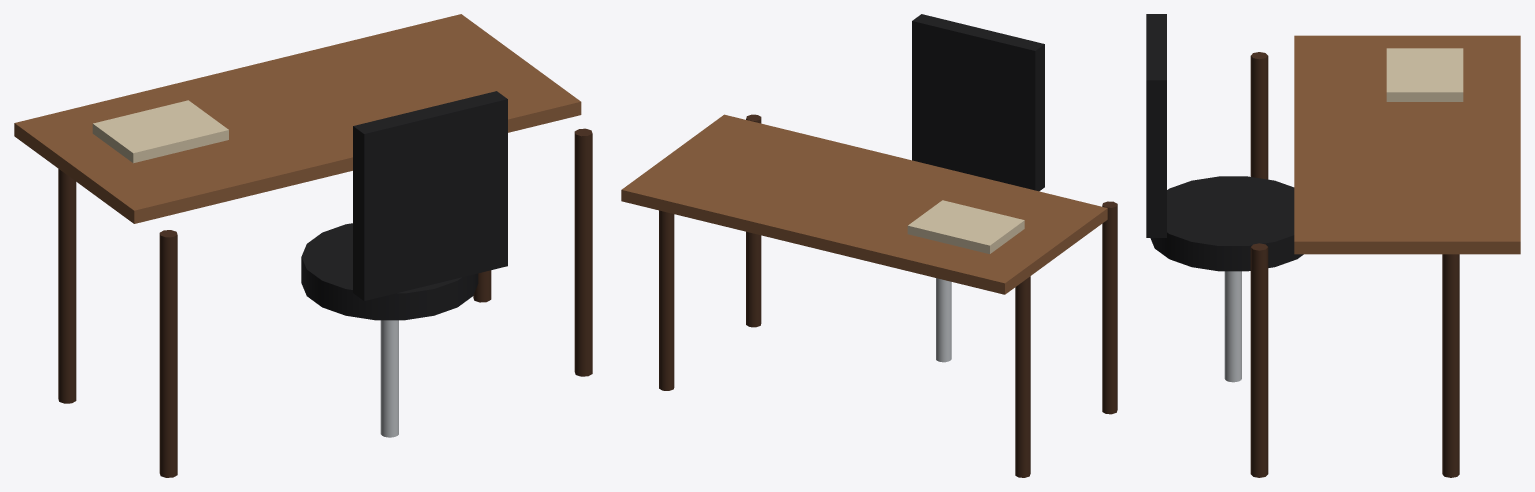
Rendered from desk.glb.
The picture shows the model from 3 angles, left to right: view 1: azimuth 30°, elevation 25°; view 2: azimuth 150°, elevation 25°; view 3: azimuth 270°, elevation 25°; orthographic projection. The views are drawn at different scales.
Visible parts, largest first — view 1: desk; view 2: desk; view 3: desk.
Part boxes in pixels (x1,y1,x2,y2): desk: (14,14,592,477); desk: (621,14,1117,477); desk: (1146,14,1520,477).
Bounding box in the file's own units: 1.4 × 1.05 × 1.07.
1 material, 1 textured.
